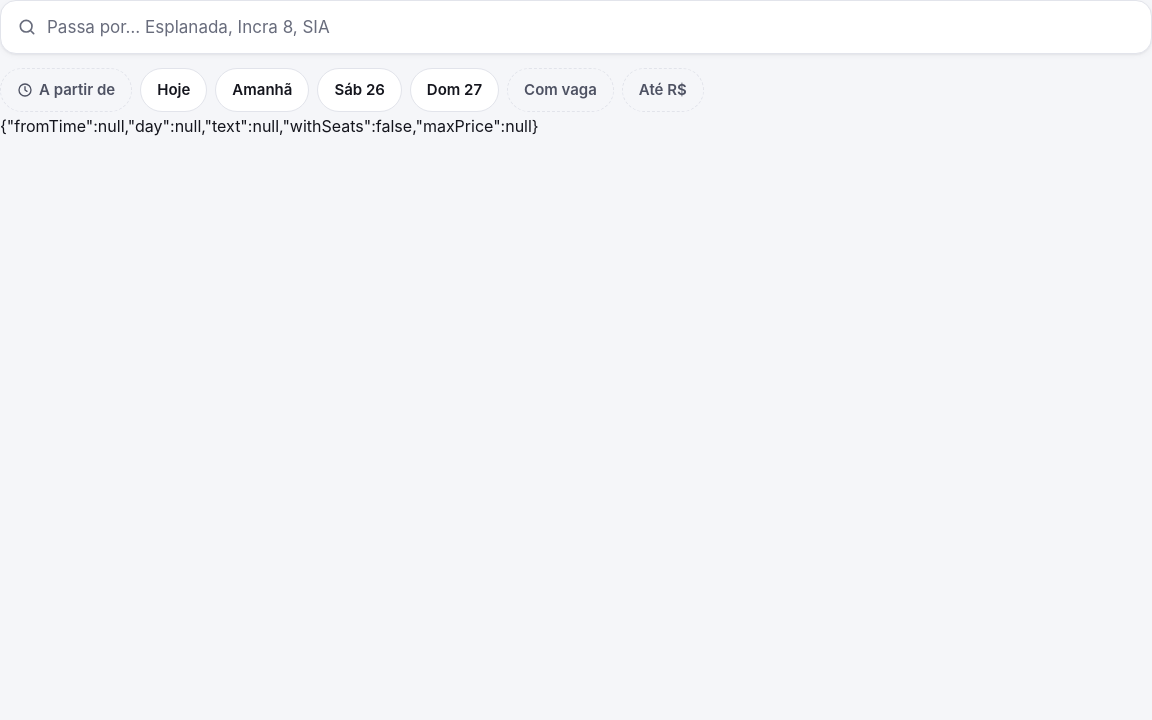
Scenario: the board's filters, as a person uses them › sets the most one pays by typing it on the price sheet
The image size is (1152, 720).
Click the button "Até R$".
click(663, 90)  # box [622,68,704,112]
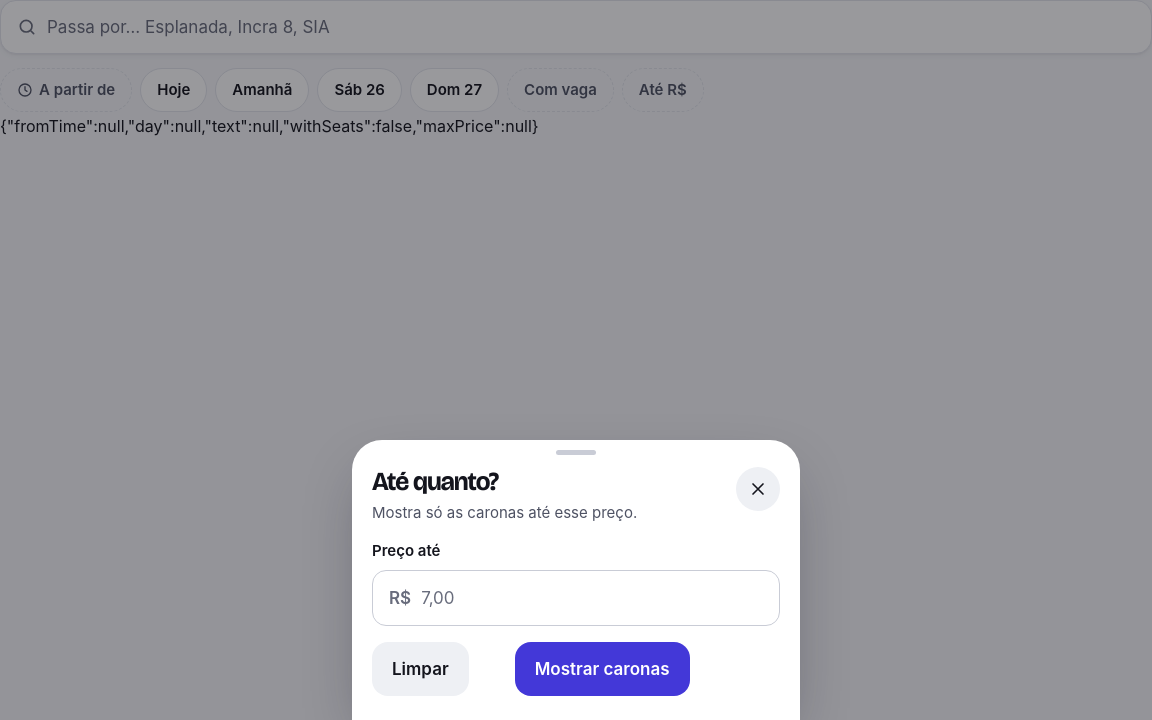
Click the number field labelled "Preço até".
click(592, 598)  # box [421,572,763,624]
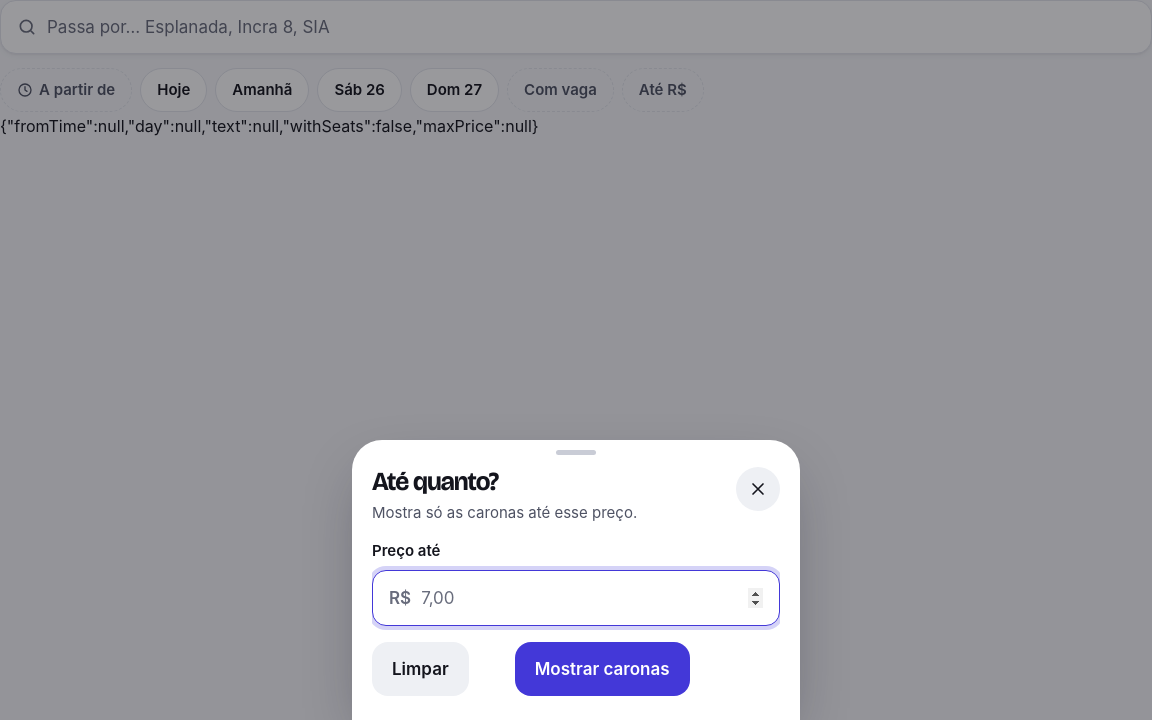
Type keys "8"
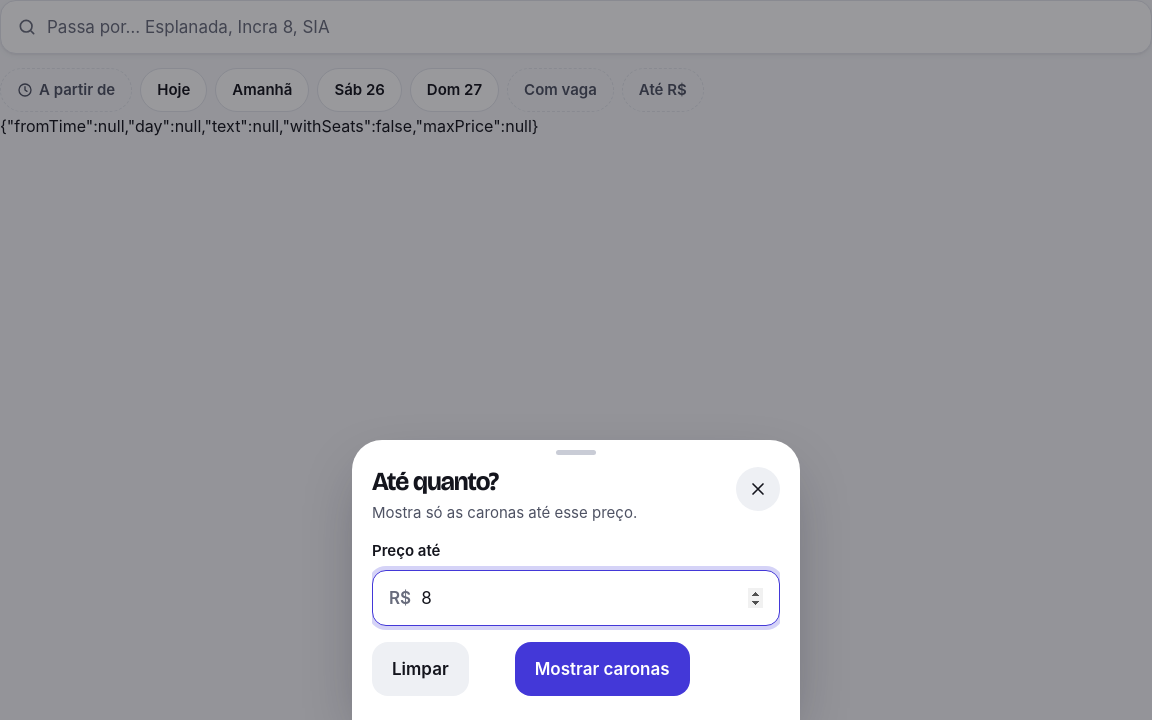
Click the button "Mostrar caronas".
click(602, 669)  # box [515,642,690,696]
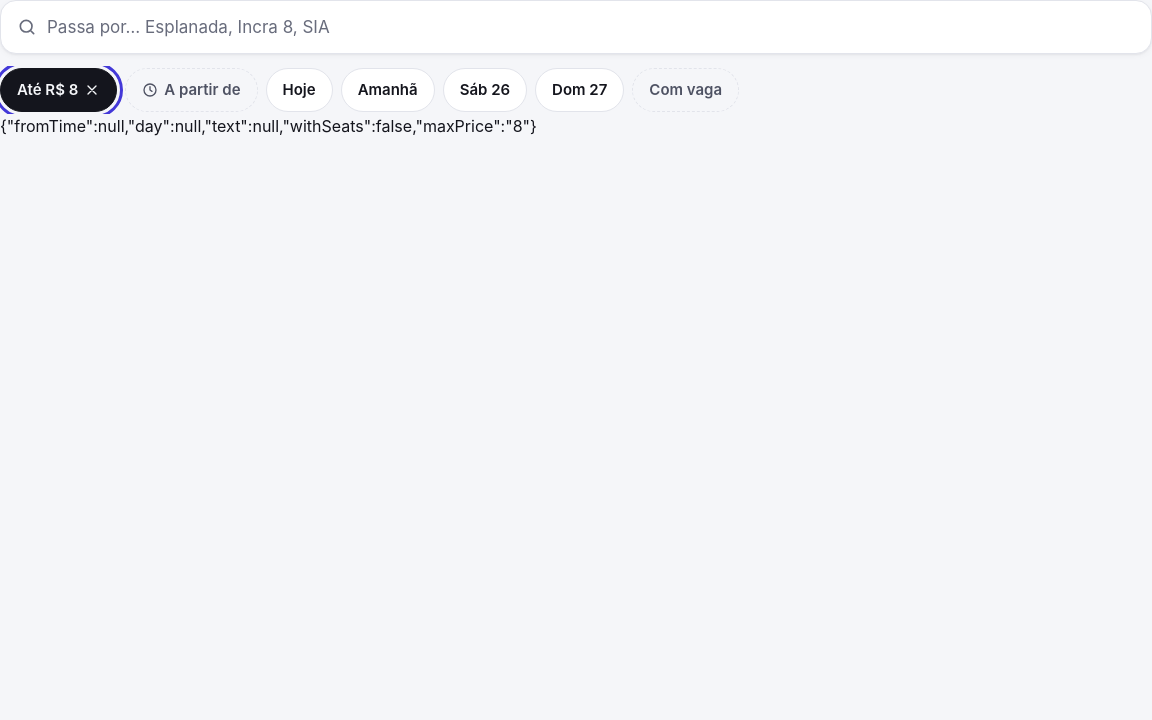
Expected: the button "Até R$ 8" is shown, [0,68,117,112]
